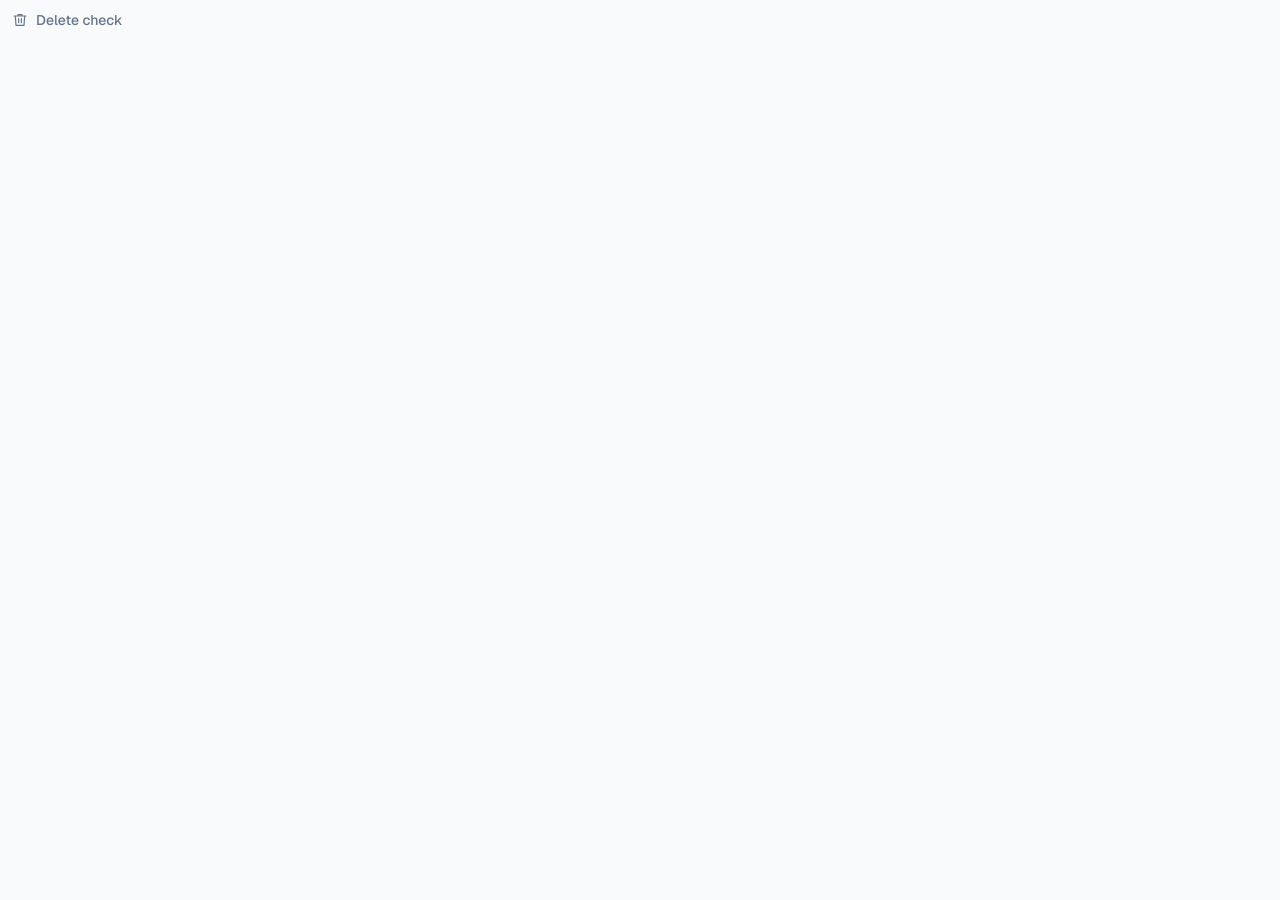
Test: requires explicit confirmation, focuses Cancel and returns focus on cancellation
Later steps or results of the test are not shown.
Step 1. Click the button "Delete check" → [67, 20], box [0, 0, 134, 40]
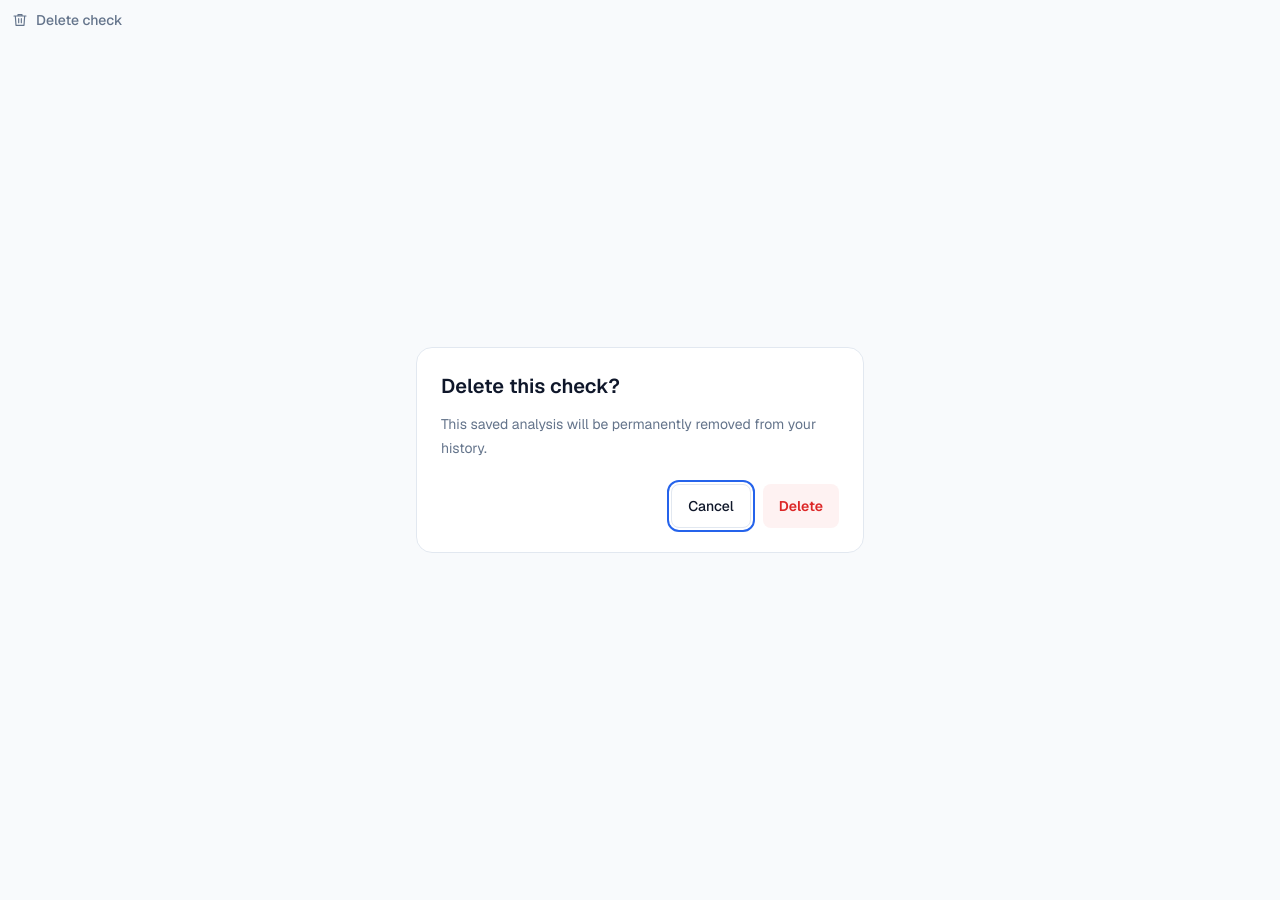
Expected: the text "Delete this check?" is shown, [441, 373, 620, 399]
Expected: the button "Cancel" is shown, [671, 484, 751, 528]
